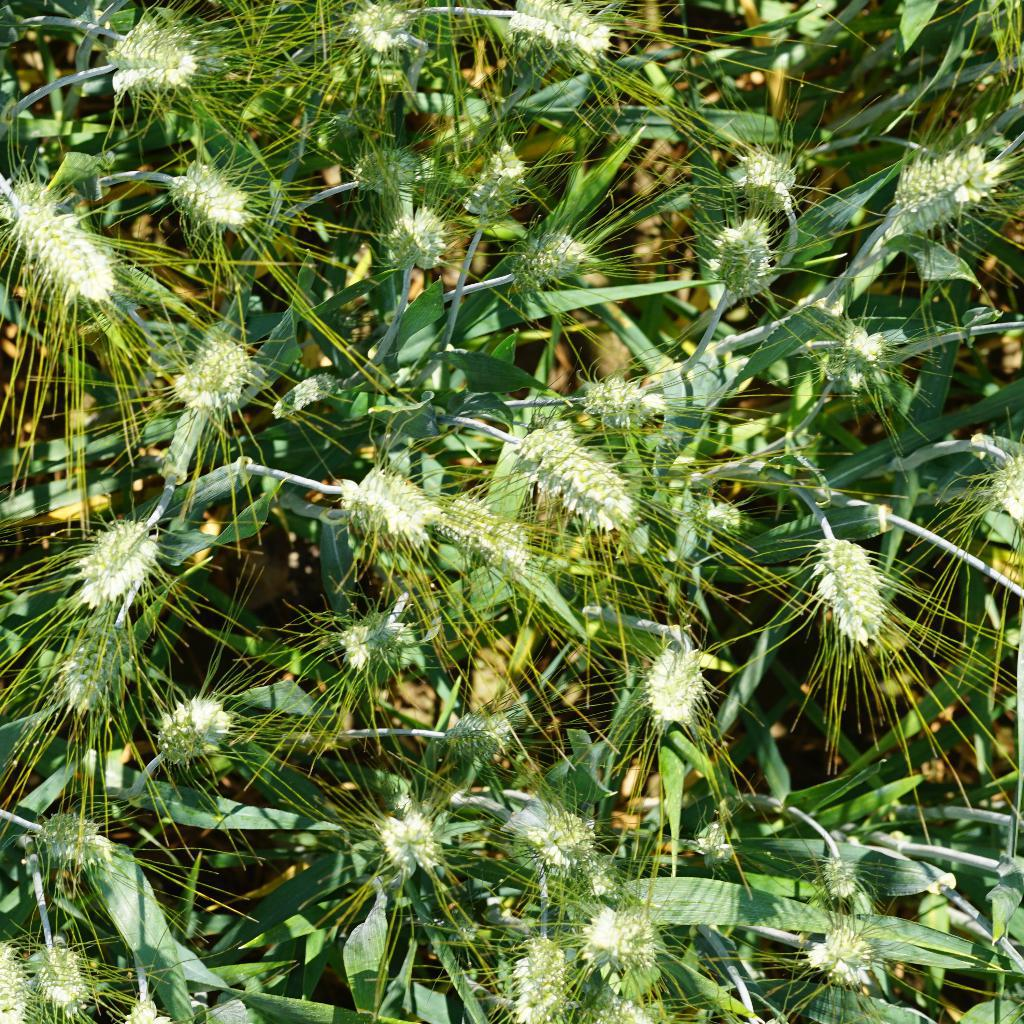0-0: (492, 419, 643, 538), (0, 183, 127, 309), (804, 518, 911, 662), (52, 590, 163, 716), (73, 499, 176, 615), (77, 481, 160, 617), (421, 488, 539, 583), (866, 139, 994, 215), (159, 149, 262, 232), (621, 635, 710, 731), (516, 800, 616, 885), (815, 314, 903, 408), (331, 455, 434, 535), (504, 0, 624, 66), (578, 900, 664, 990), (342, 134, 456, 201), (107, 17, 209, 91), (369, 793, 463, 873), (808, 918, 903, 997), (27, 800, 129, 873), (149, 699, 245, 776), (179, 320, 251, 421), (29, 911, 94, 1021), (329, 610, 429, 680), (508, 923, 577, 1024), (460, 139, 529, 238), (433, 691, 516, 768), (705, 209, 772, 296), (514, 224, 604, 288), (381, 195, 451, 273), (567, 374, 664, 430), (735, 134, 798, 201), (810, 851, 878, 912), (346, 0, 417, 58), (677, 484, 743, 540), (694, 806, 750, 869), (427, 900, 487, 947), (0, 935, 26, 1024)
